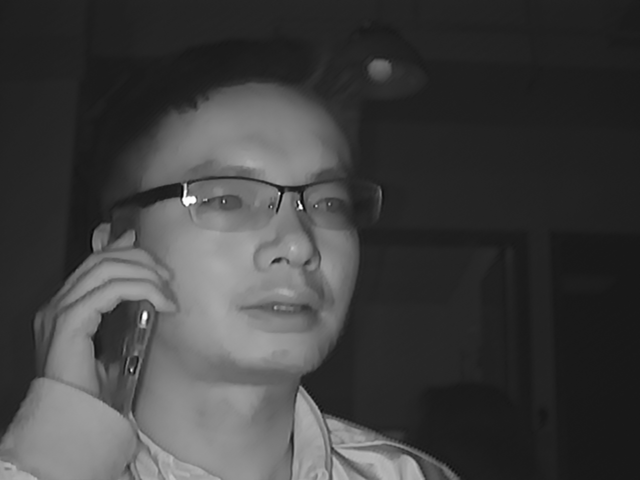hand: (50, 237, 171, 410)
